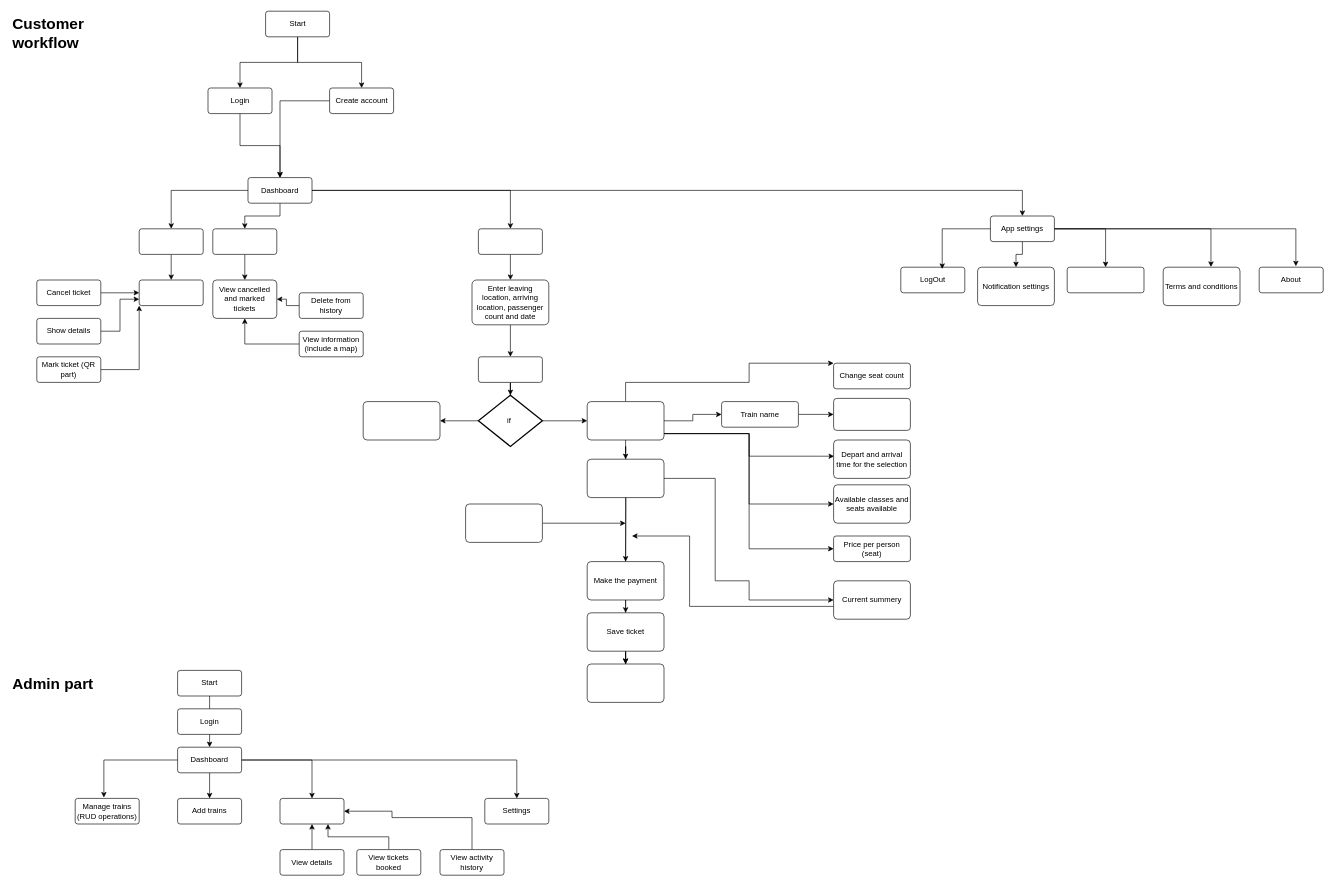
This 1334x886 diagram has some shape labels left out. The shapes that lost their labels are listed below. From the top down, each one's centre as x and y in pixels, then its label:
At (171,241): "All booked tickets".
At (244,241): "History".
At (510,241): "Book new ticket".
At (171,292): "Show tickets".
At (1105,280): "Theme".
At (510,369): "Check availability".
At (401,420): "No trains".
At (625,420): "Show the trains with information".
At (871,414): "Departs & arrive location + time range for the trip".
At (625,478): "Enter (primary) passenger details".
At (503,522): "Enter other passenger details".
At (625,682): "Return to home".
At (311,811): "view accounts (customer)".
